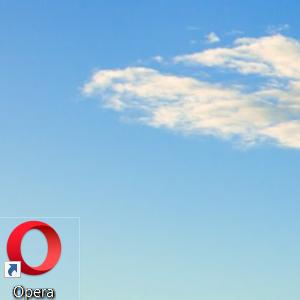opera: (4, 221, 61, 278)
